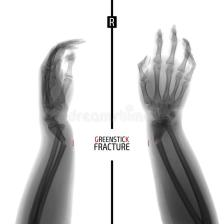greenstick-fracture: (135, 19, 220, 224), (10, 31, 85, 224)
